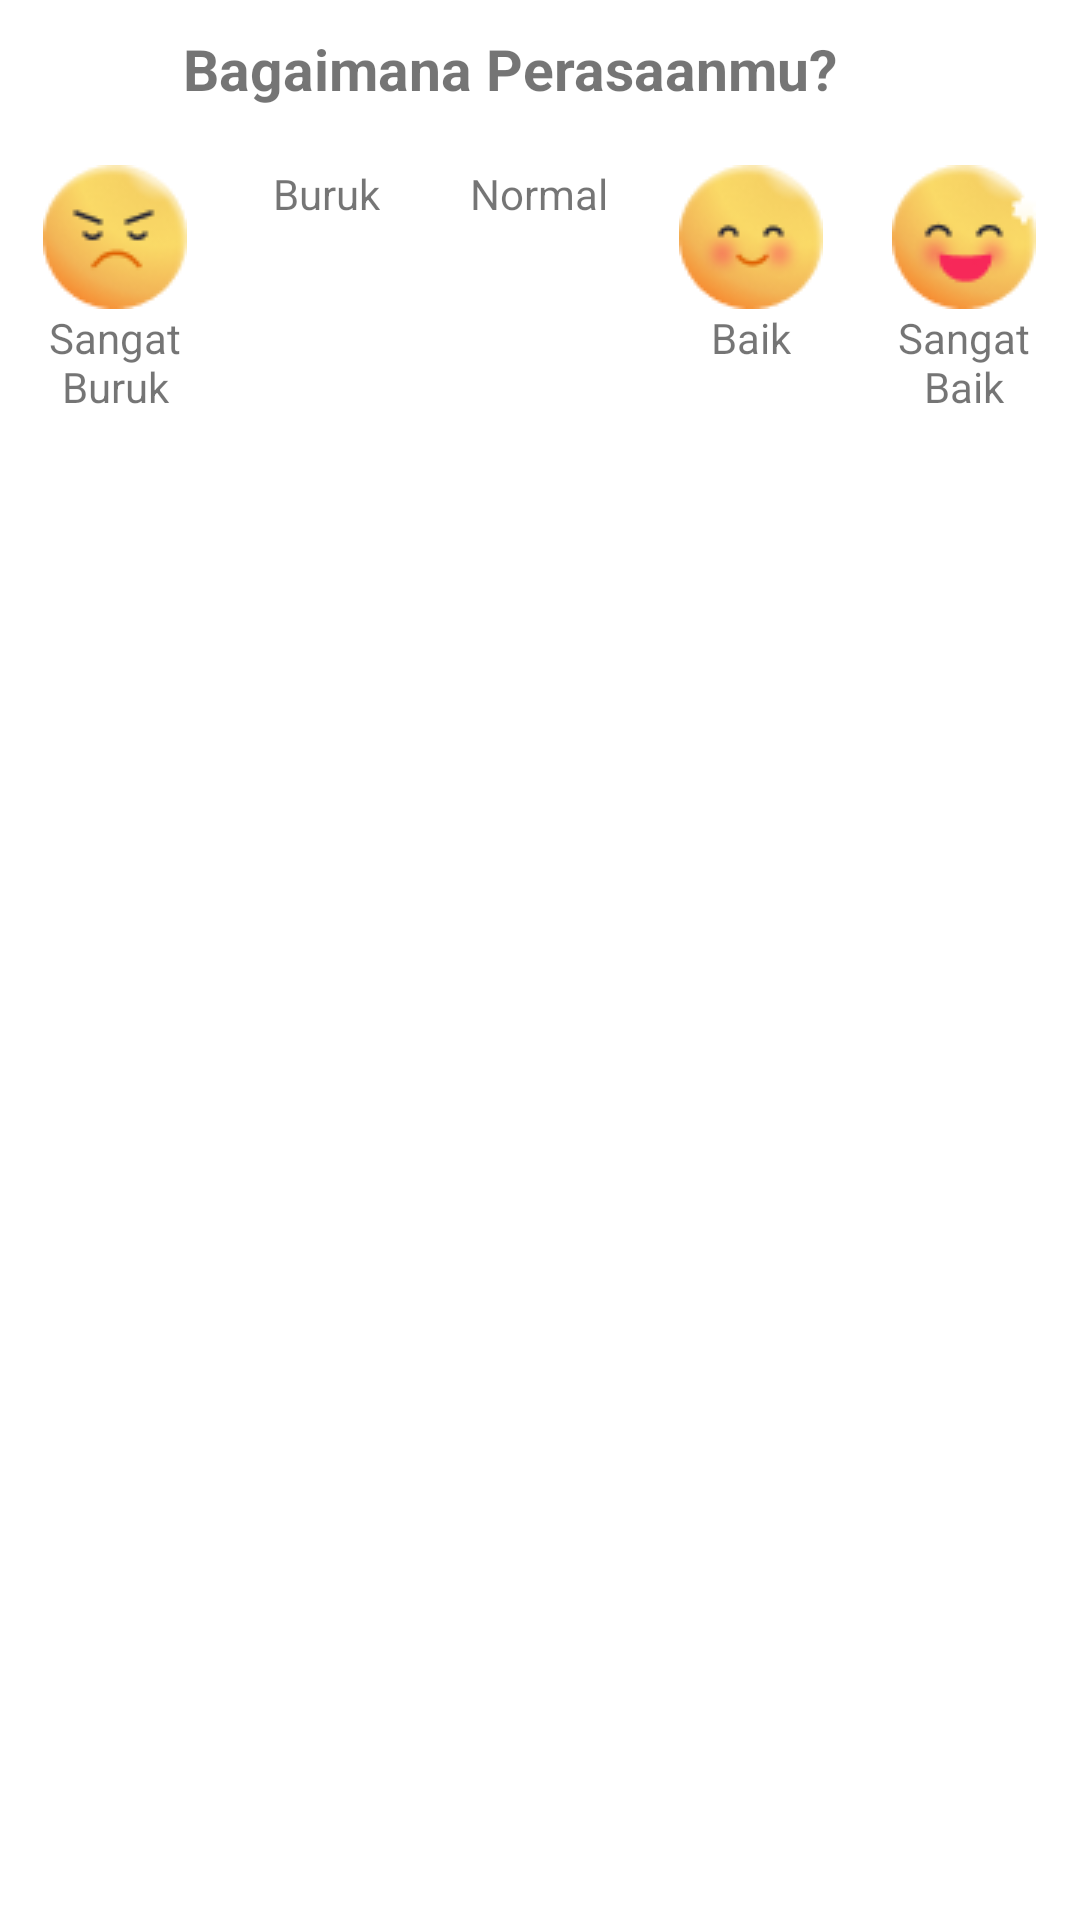

Named icons in this screenshot (1080×1920) and their bounding boxes, (x1, y1, x2, y2):
emoji: (43, 165, 187, 309), (679, 165, 823, 309), (892, 165, 1036, 309)
